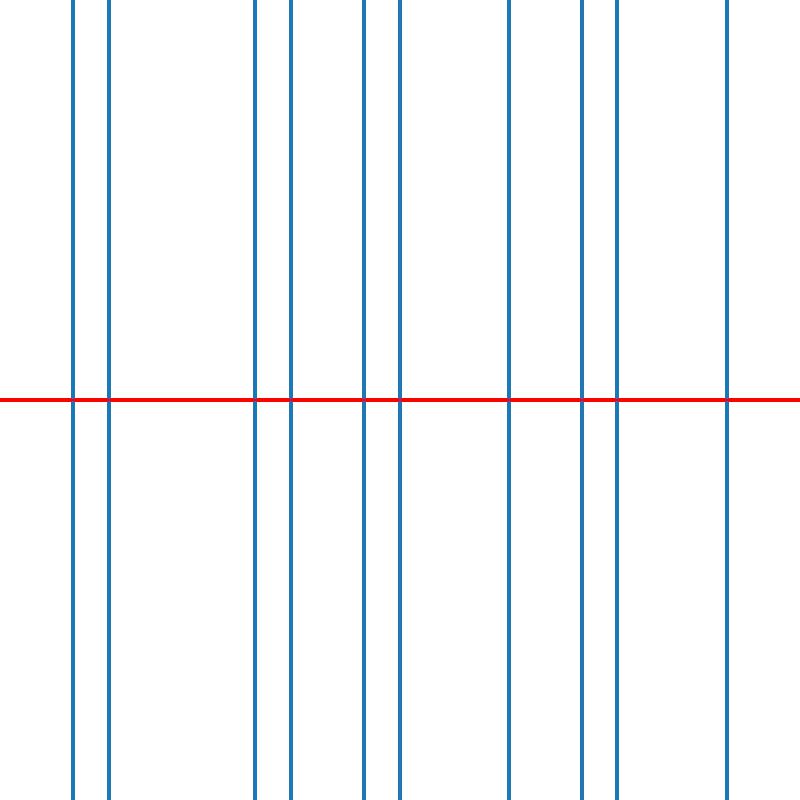root: (250, 396, 258, 404), (105, 396, 112, 404), (578, 396, 585, 404), (396, 396, 403, 404), (614, 396, 621, 404), (360, 396, 367, 404), (69, 396, 76, 404), (505, 396, 512, 404), (287, 396, 294, 404), (723, 396, 730, 404)
